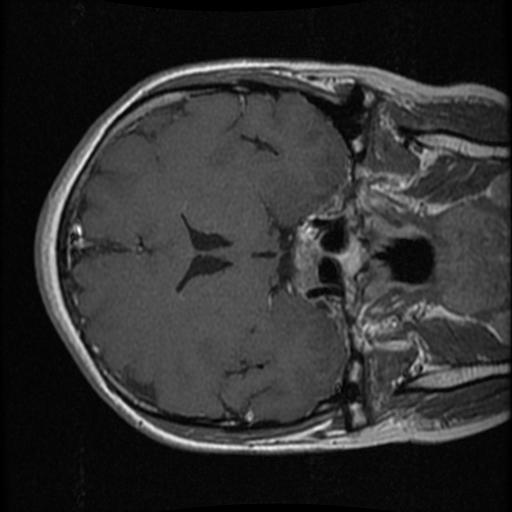pituitary tumour: (291, 219, 323, 292)
